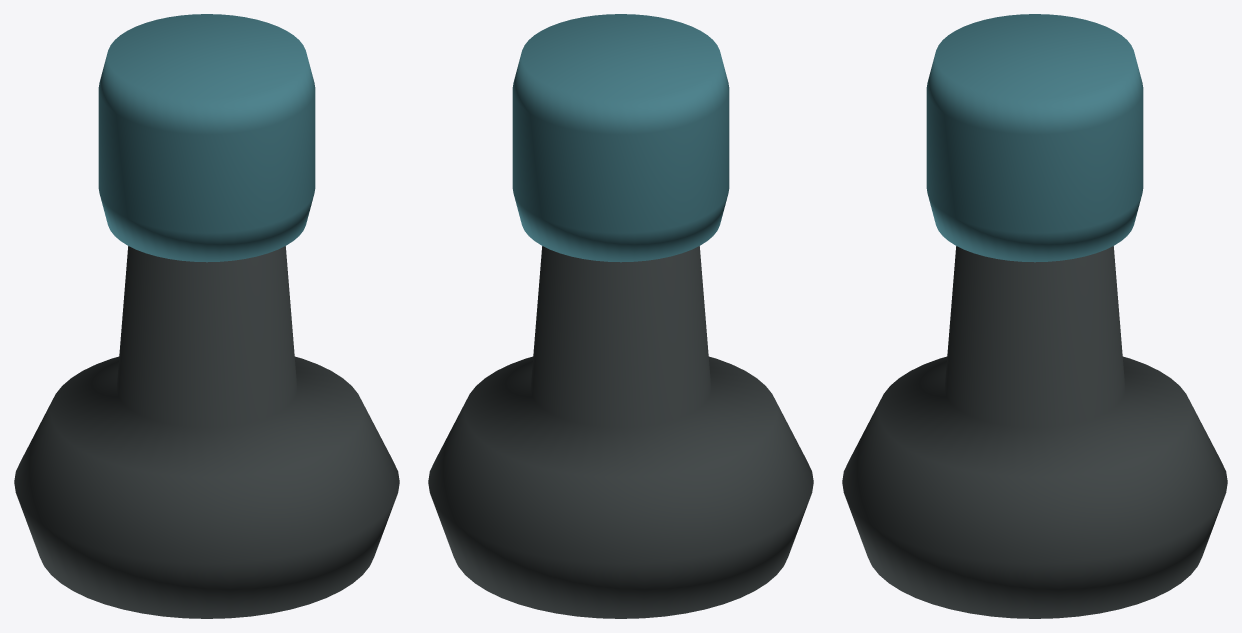
Rendered from optician-and-optical-lens-workshop-optician-and-optica-47c7100a__31708.glb.
3 renders of one model, left to right at view 1: azimuth 30°, elevation 25°; view 2: azimuth 150°, elevation 25°; view 3: azimuth 270°, elevation 25°, orthographic.
Visible parts, largest first — view 1: optician-and-optical-lens-workshop-lens-suction-holder; view 2: optician-and-optical-lens-workshop-lens-suction-holder; view 3: optician-and-optical-lens-workshop-lens-suction-holder.
Part boxes in pixels (x1,y1,x2,y2): optician-and-optical-lens-workshop-lens-suction-holder: (14,14,399,618); optician-and-optical-lens-workshop-lens-suction-holder: (428,14,813,618); optician-and-optical-lens-workshop-lens-suction-holder: (842,14,1227,618).
Bounding box in the file's own units: 0.064 × 0.09 × 0.064.
